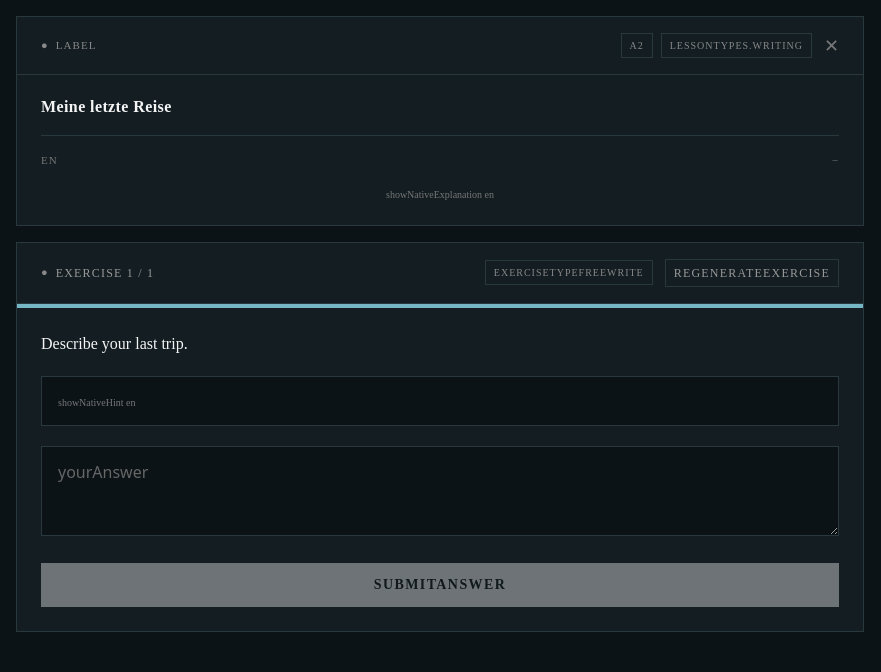
Test: LessonPage free-write corrections › keeps the red state and no corrections list for the unevaluated fallback
The width and height of the screenshot is (881, 672).
Expected: the text "Describe your last trip." is shown, x1=41 y1=334 x2=188 y2=352
Type "Ich habe viele abenteuer gehabt. Ich bin mit auto gefahren." into the text box with placeholder "yourAnswer" at [440, 490], box x1=41 y1=446 x2=839 y2=536
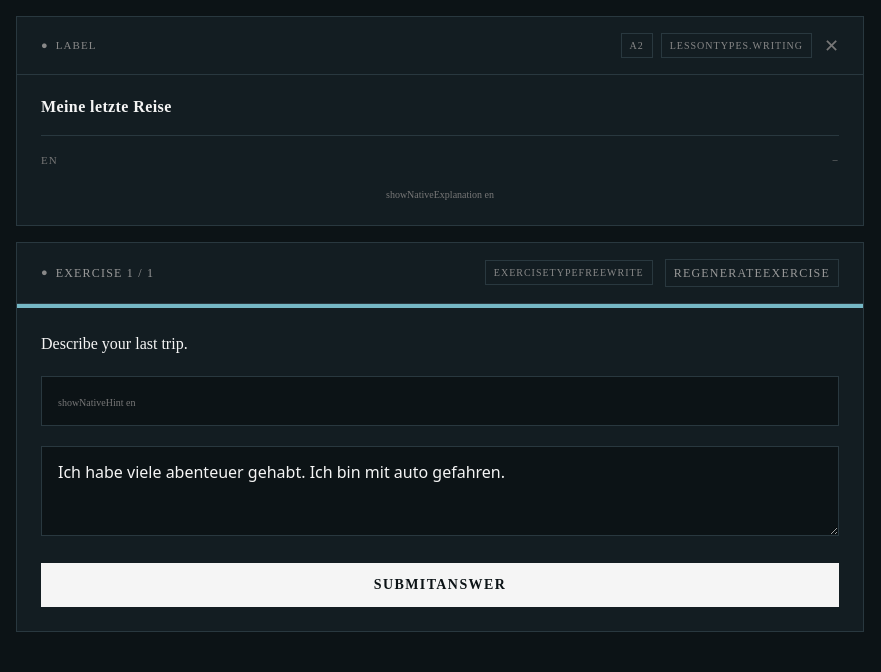
Click the button "submitAnswer" at [440, 584], box x1=41 y1=562 x2=839 y2=606
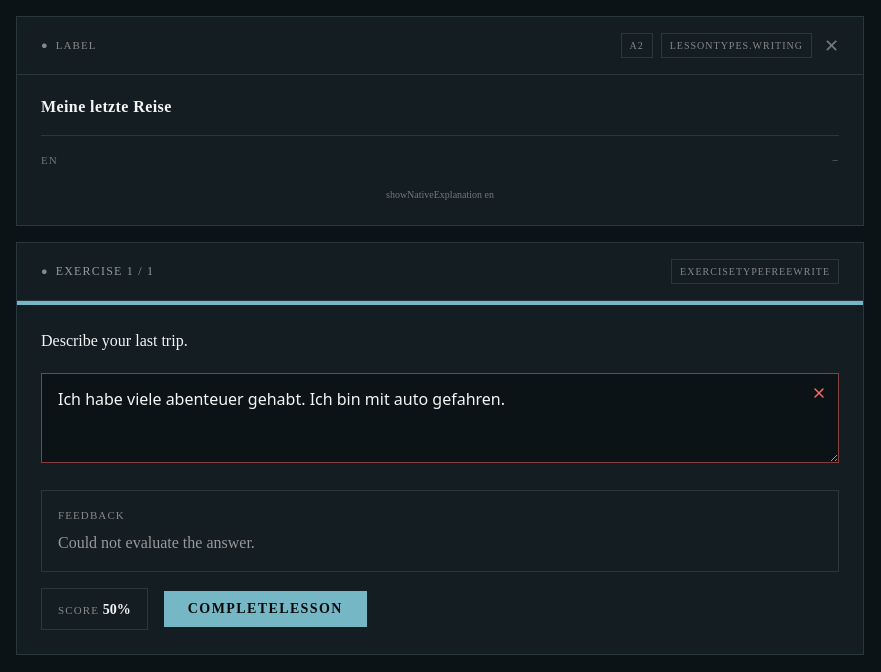
Result: the text "Could not evaluate the answer." is shown at x1=58 y1=534 x2=255 y2=551
Result: the text box with placeholder "yourAnswer" is disabled at x1=41 y1=372 x2=839 y2=462
